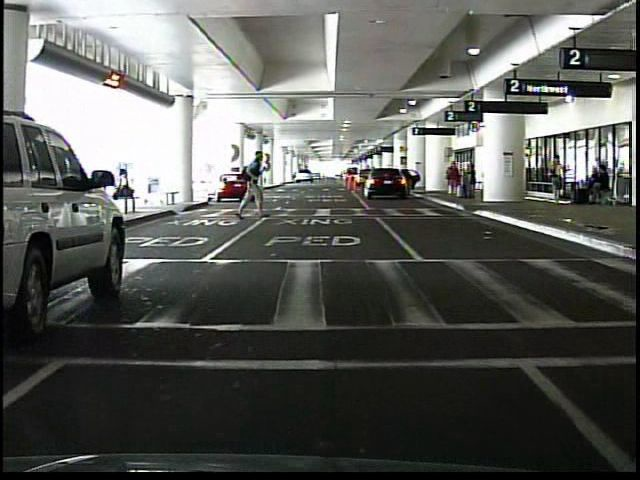person: (233, 151, 271, 222), (114, 166, 136, 200), (444, 160, 463, 199), (550, 155, 565, 202), (465, 165, 466, 199)
